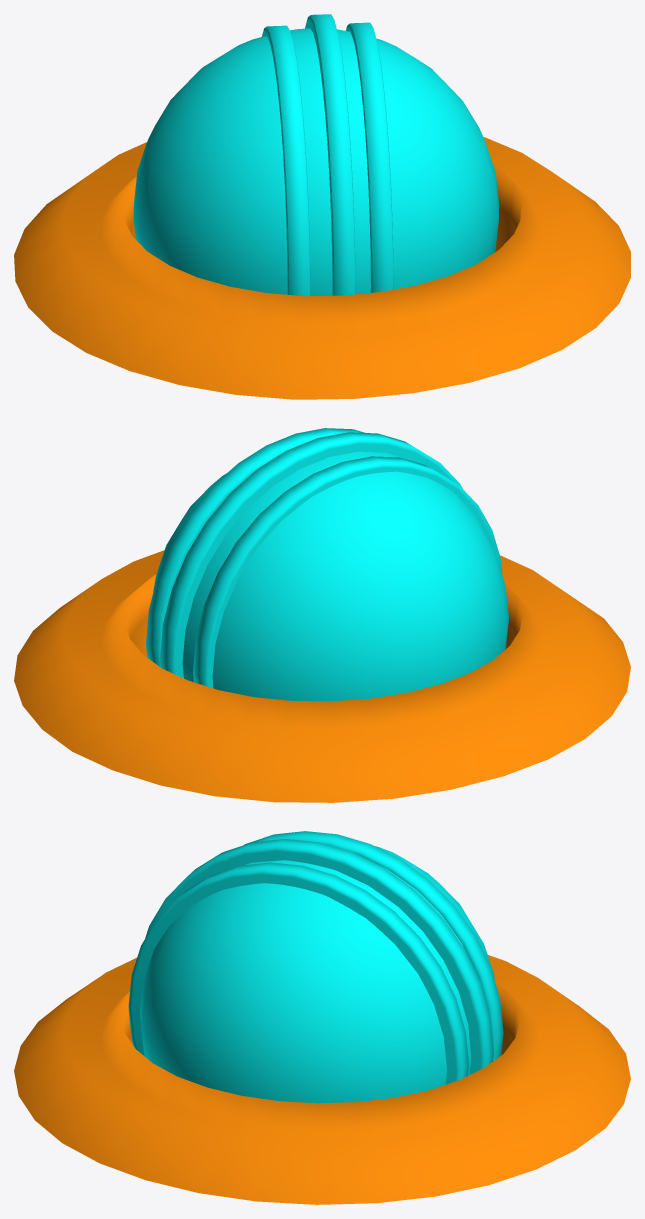
File: Lago_Helado HP.fbx
The picture shows the model from 3 angles, top to bottom: view 1: azimuth 30°, elevation 25°; view 2: azimuth 150°, elevation 25°; view 3: azimuth 270°, elevation 25°; orthographic projection. The views are drawn at different scales.
Visible parts, largest first — view 1: Helado HP; view 2: Helado HP; view 3: Helado HP.
Boxes of the visible parts, left/top/right/bottom form: Helado HP: left=14, top=14, right=630, bottom=399; Helado HP: left=14, top=428, right=630, bottom=802; Helado HP: left=14, top=831, right=630, bottom=1204.
Bounding box in the file's own units: 251 × 123 × 254.
